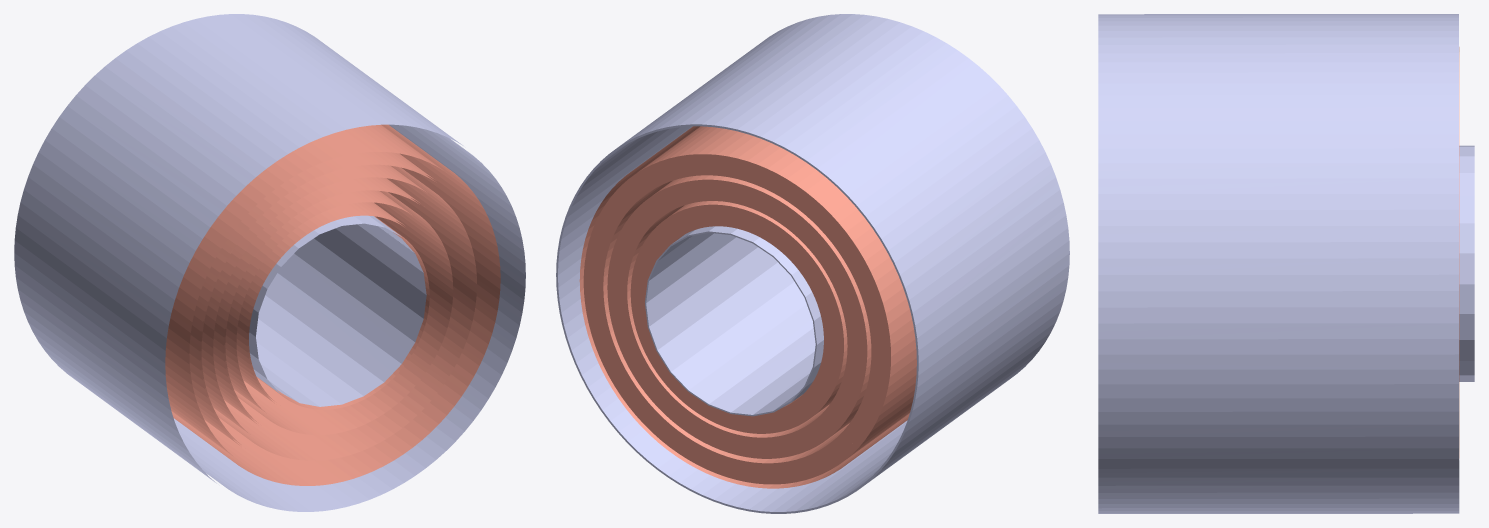
The model's file is SCT-BAR-cut1.glb.
3 renders of one model, left to right at view 1: azimuth 30°, elevation 25°; view 2: azimuth 150°, elevation 25°; view 3: azimuth 270°, elevation 25°, orthographic. The views are drawn at different scales.
Parts seen in each view (by area): view 1: null; view 2: null; view 3: null.
Boxes of the visible parts, box(x1,y1,x2,y2) form: null: box(14, 14, 525, 511); null: box(556, 14, 1069, 513); null: box(1098, 14, 1474, 513).
Bounding box in the file's own units: 1.09 × 1.09 × 0.8234.
